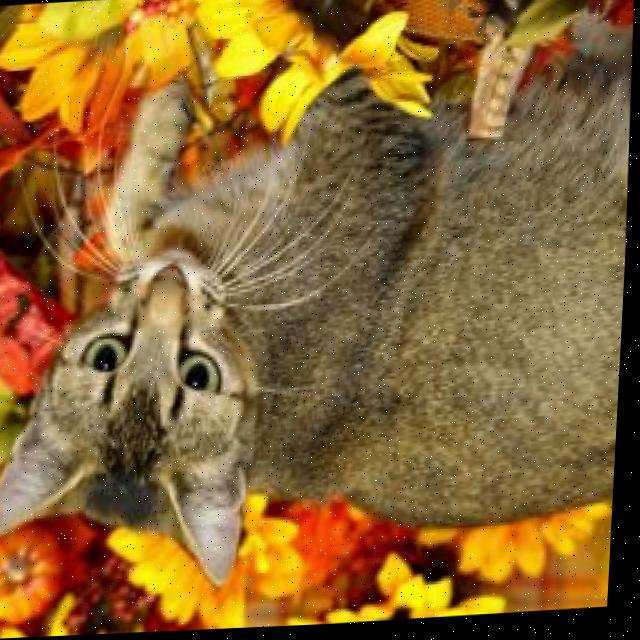Abyssinian: (0, 46, 637, 612)
